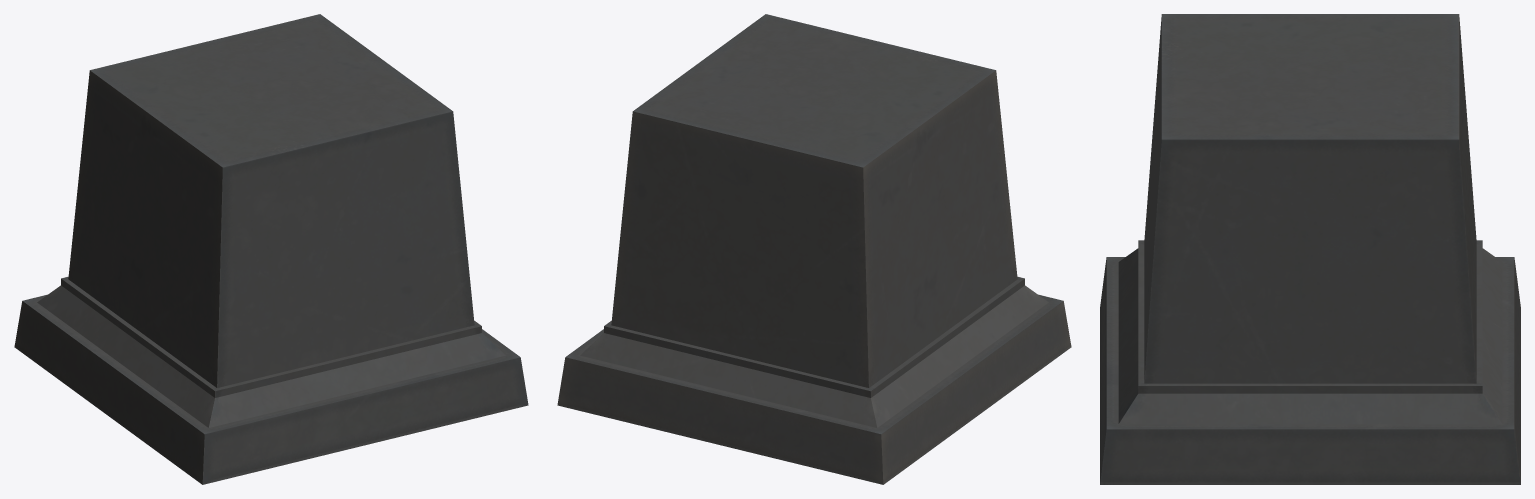
Rendered from Statue_Lobby (1).fbx.
3 renders of one model, left to right at view 1: azimuth 30°, elevation 25°; view 2: azimuth 150°, elevation 25°; view 3: azimuth 270°, elevation 25°, orthographic. The views are drawn at different scales.
Visible parts, largest first — view 1: Statue_Lobby (1).001; view 2: Statue_Lobby (1).001; view 3: Statue_Lobby (1).001.
Boxes of the visible parts, left/top/right/bottom form: Statue_Lobby (1).001: left=14, top=14, right=528, bottom=484; Statue_Lobby (1).001: left=557, top=14, right=1071, bottom=484; Statue_Lobby (1).001: left=1100, top=14, right=1520, bottom=484.
Bounding box in the file's own units: 1.39 × 1.39 × 1.16.
1 material, 1 textured.
